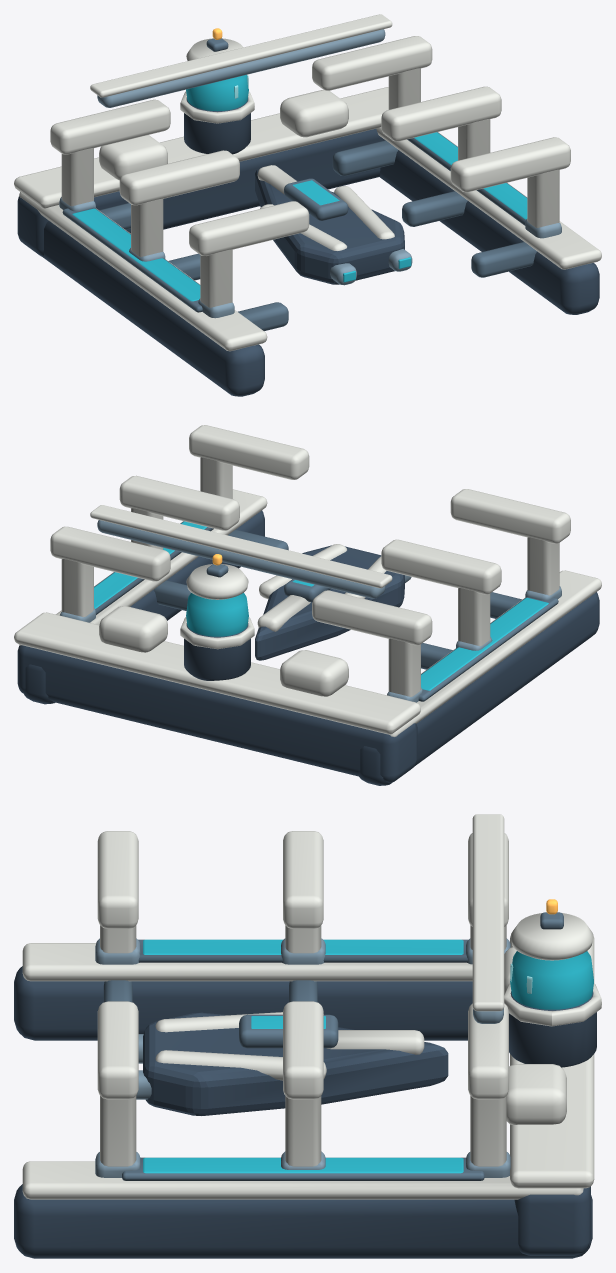
The model's file is orbital_shipyard_lv5.glb.
The picture shows the model from 3 angles, top to bottom: view 1: azimuth 30°, elevation 25°; view 2: azimuth 150°, elevation 25°; view 3: azimuth 270°, elevation 25°; orthographic projection. The views are drawn at different scales.
Parts seen in each view (by area): view 1: Structure; view 2: Structure; view 3: Structure.
Boxes of the visible parts, box(x1,y1,x2,y2) form: Structure: box(14, 14, 601, 396); Structure: box(14, 425, 601, 785); Structure: box(14, 814, 601, 1258).
Bounding box in the file's own units: 8.92 × 4.09 × 8.94.
